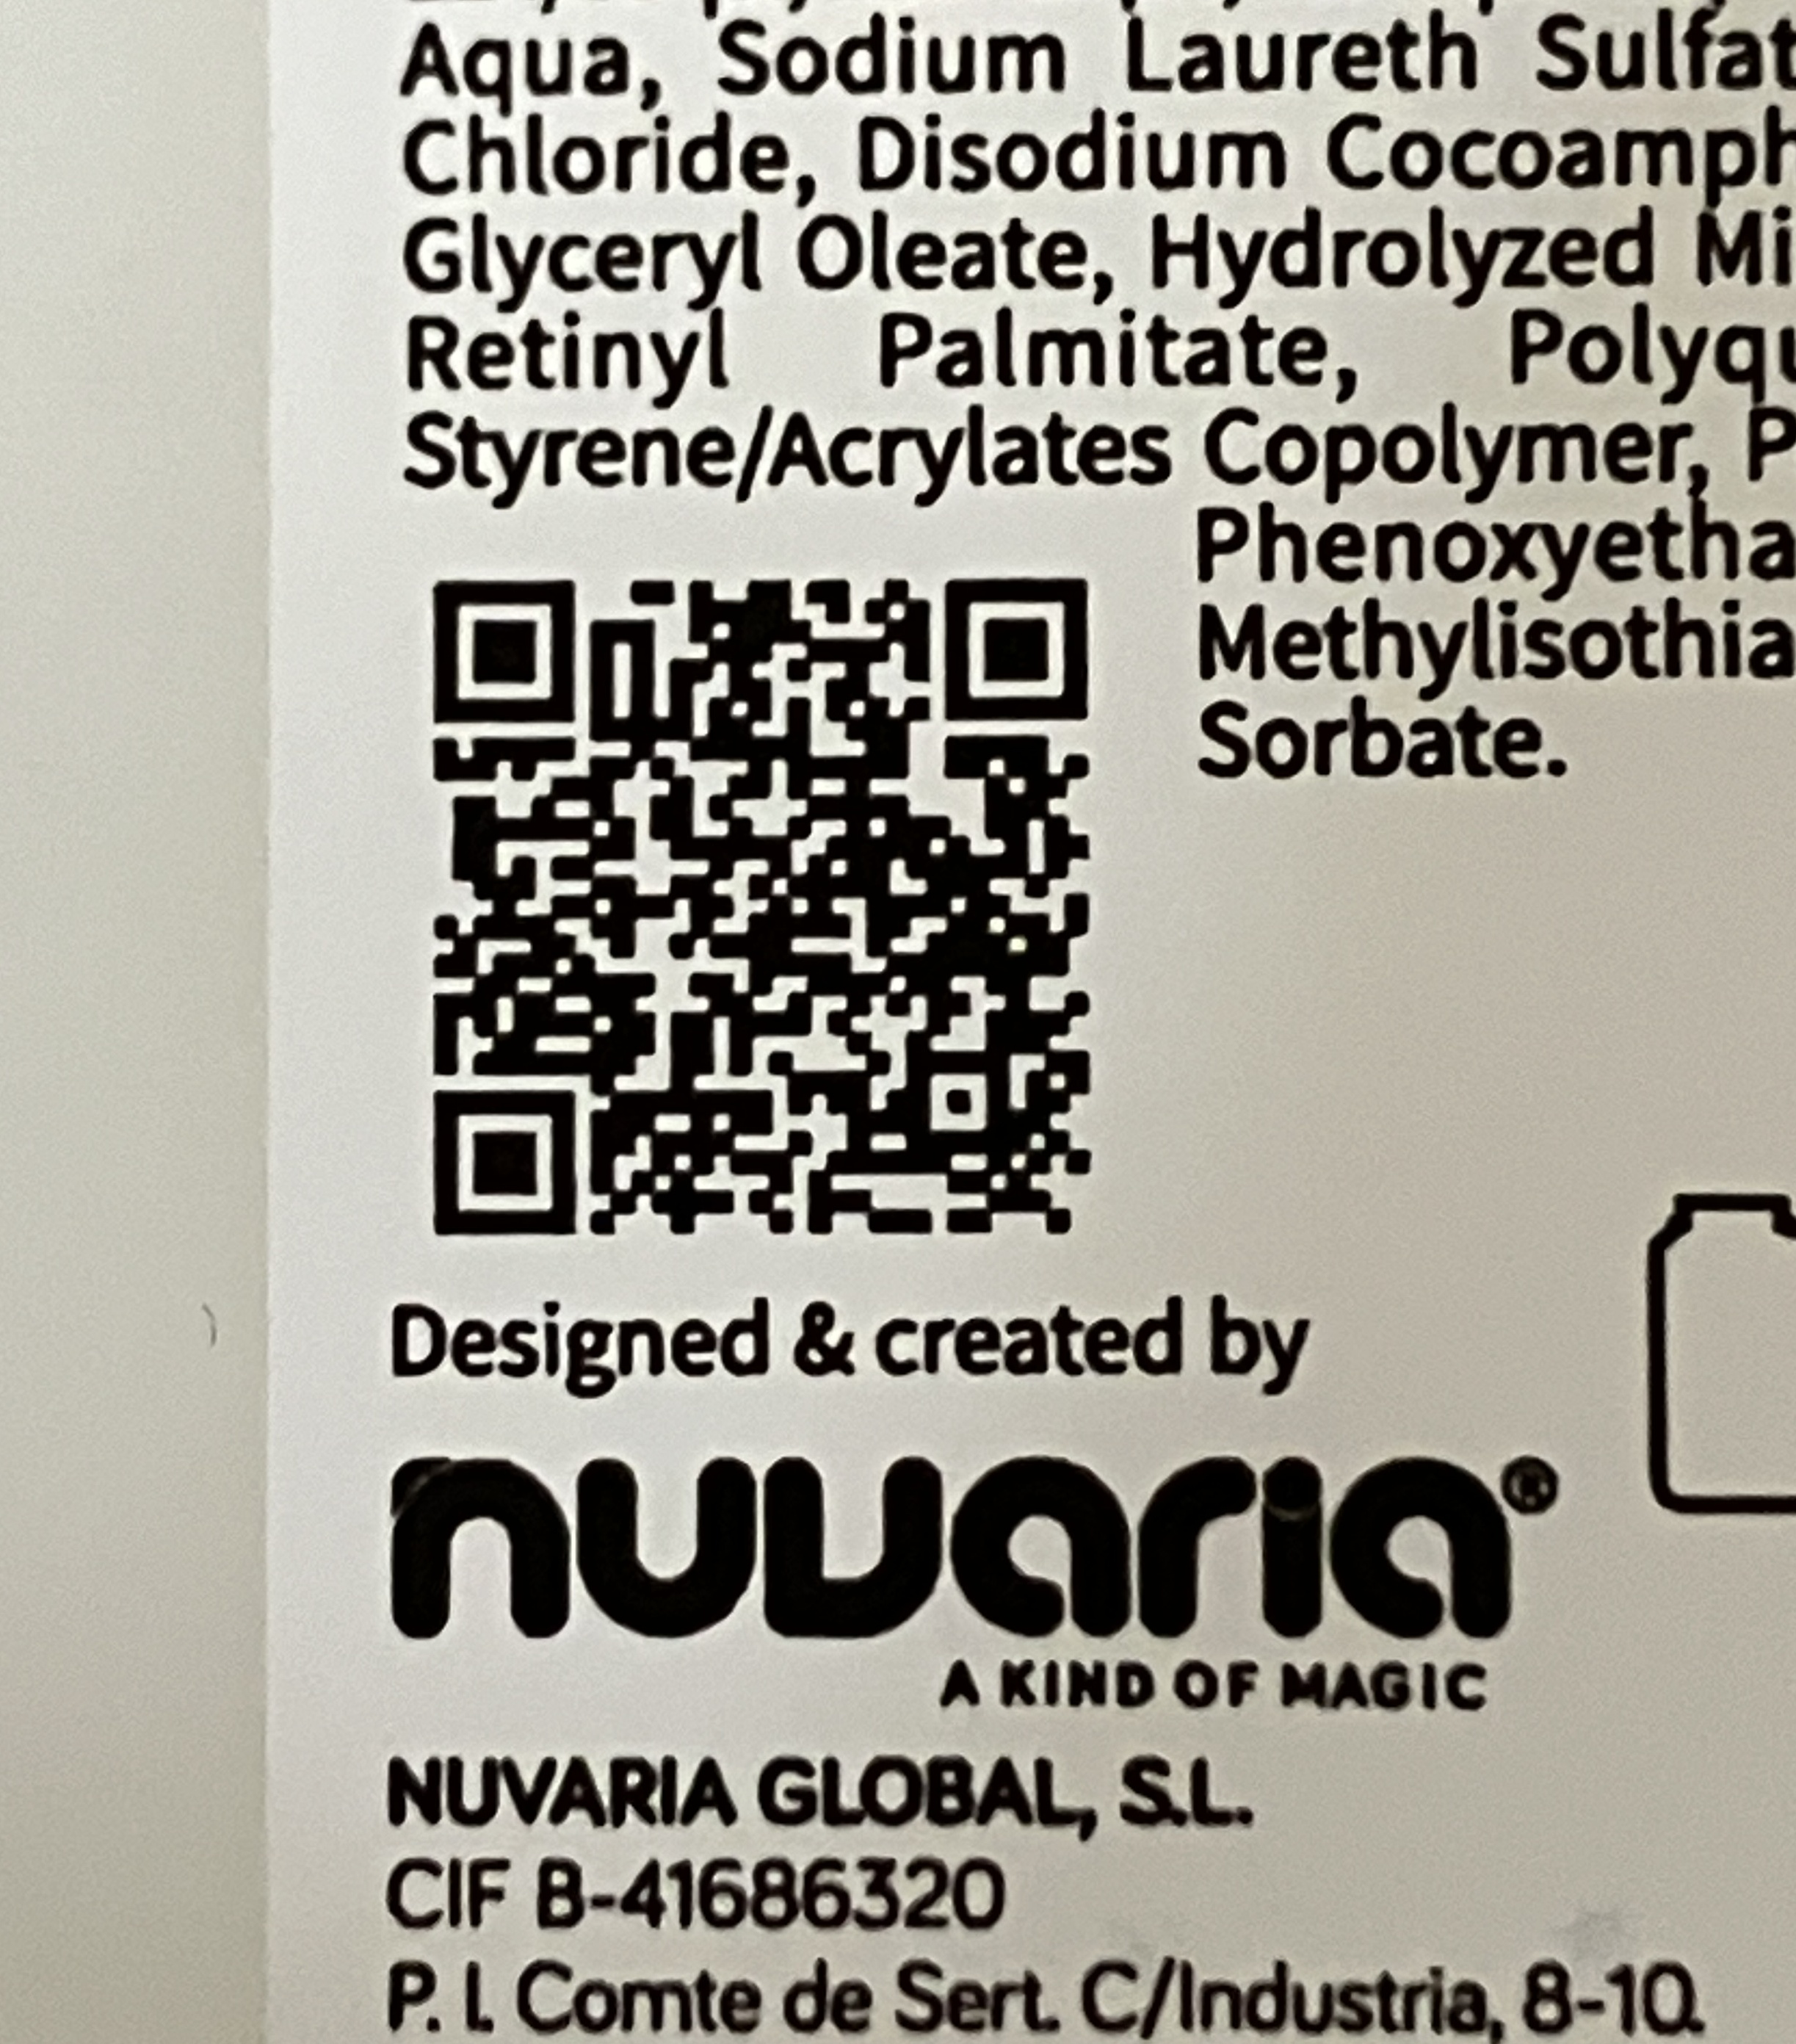2d: (434, 584, 1091, 1238)
